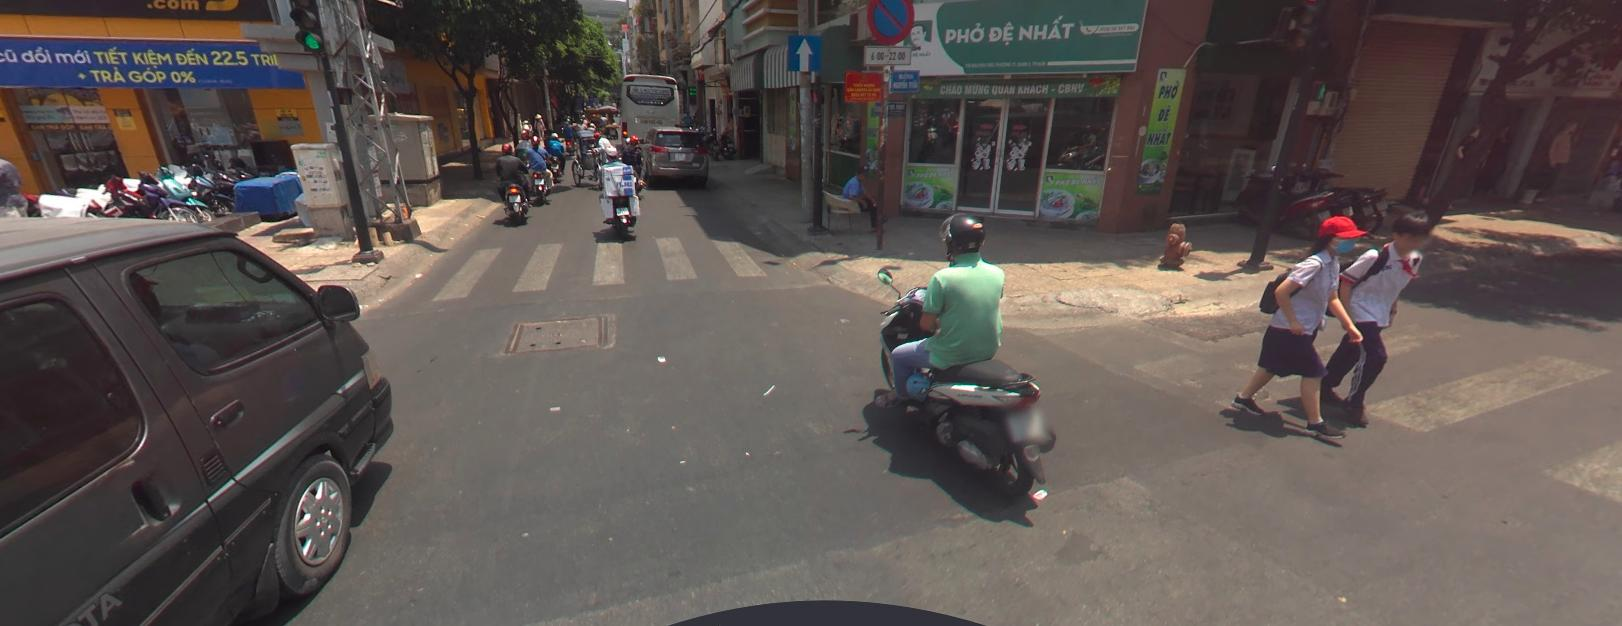Cam dung va do: (865, 1, 917, 43)
